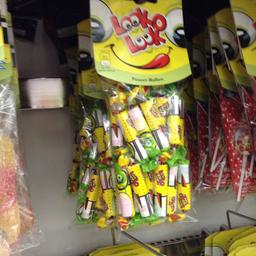candy: (92, 2, 186, 226), (212, 10, 254, 184)
